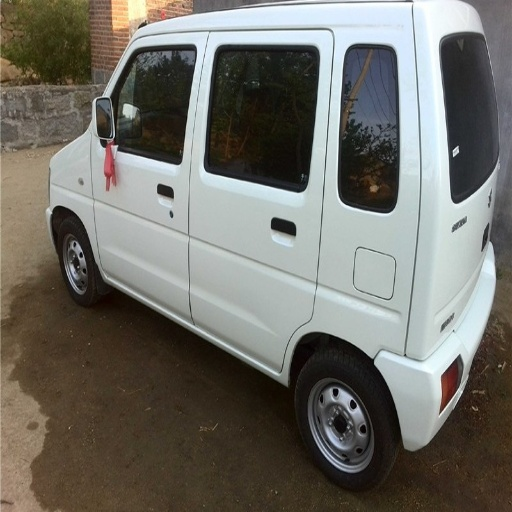front_glass: (214, 50, 320, 114)
trunk: (329, 191, 482, 319), (202, 193, 243, 235)
